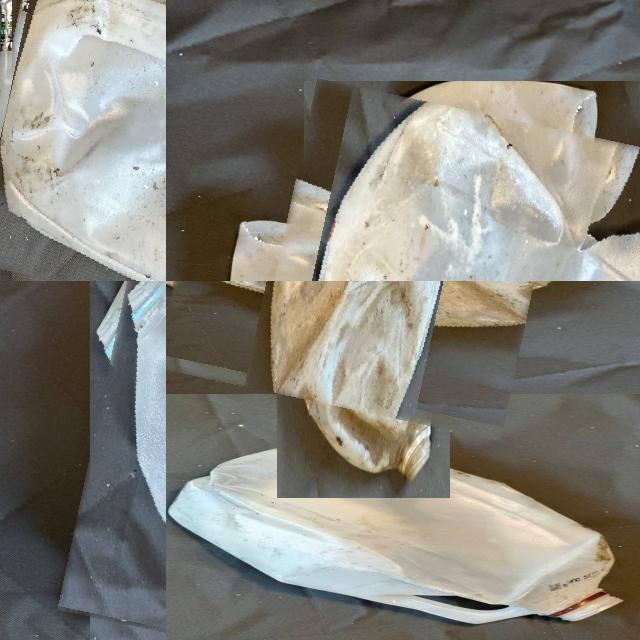milk-jug: (166, 439, 640, 625), (247, 97, 640, 281), (170, 281, 554, 423), (0, 0, 166, 281), (75, 281, 166, 640)
